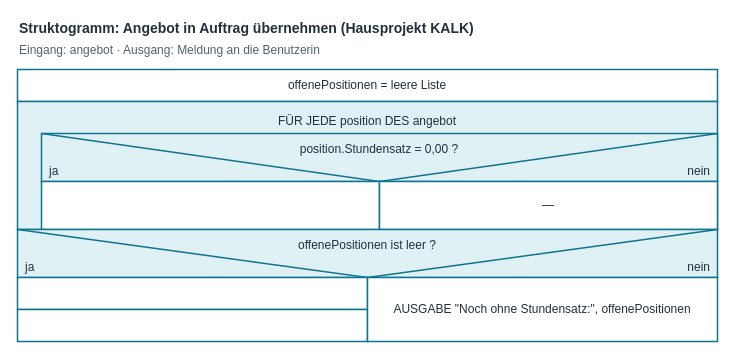
The diagram is 737 pixels wide and 359 high, and some of its shapes have lost their labels. Here are the shapes that lost their labels. From the top down, the centre of each, then its label:
pixel 210 205: offenePositionen = offenePositionen + position.Nummer
pixel 192 293: Status des angebot = "in Auftrag übernommen"
pixel 192 325: AUSGABE "Auftrag angelegt"
